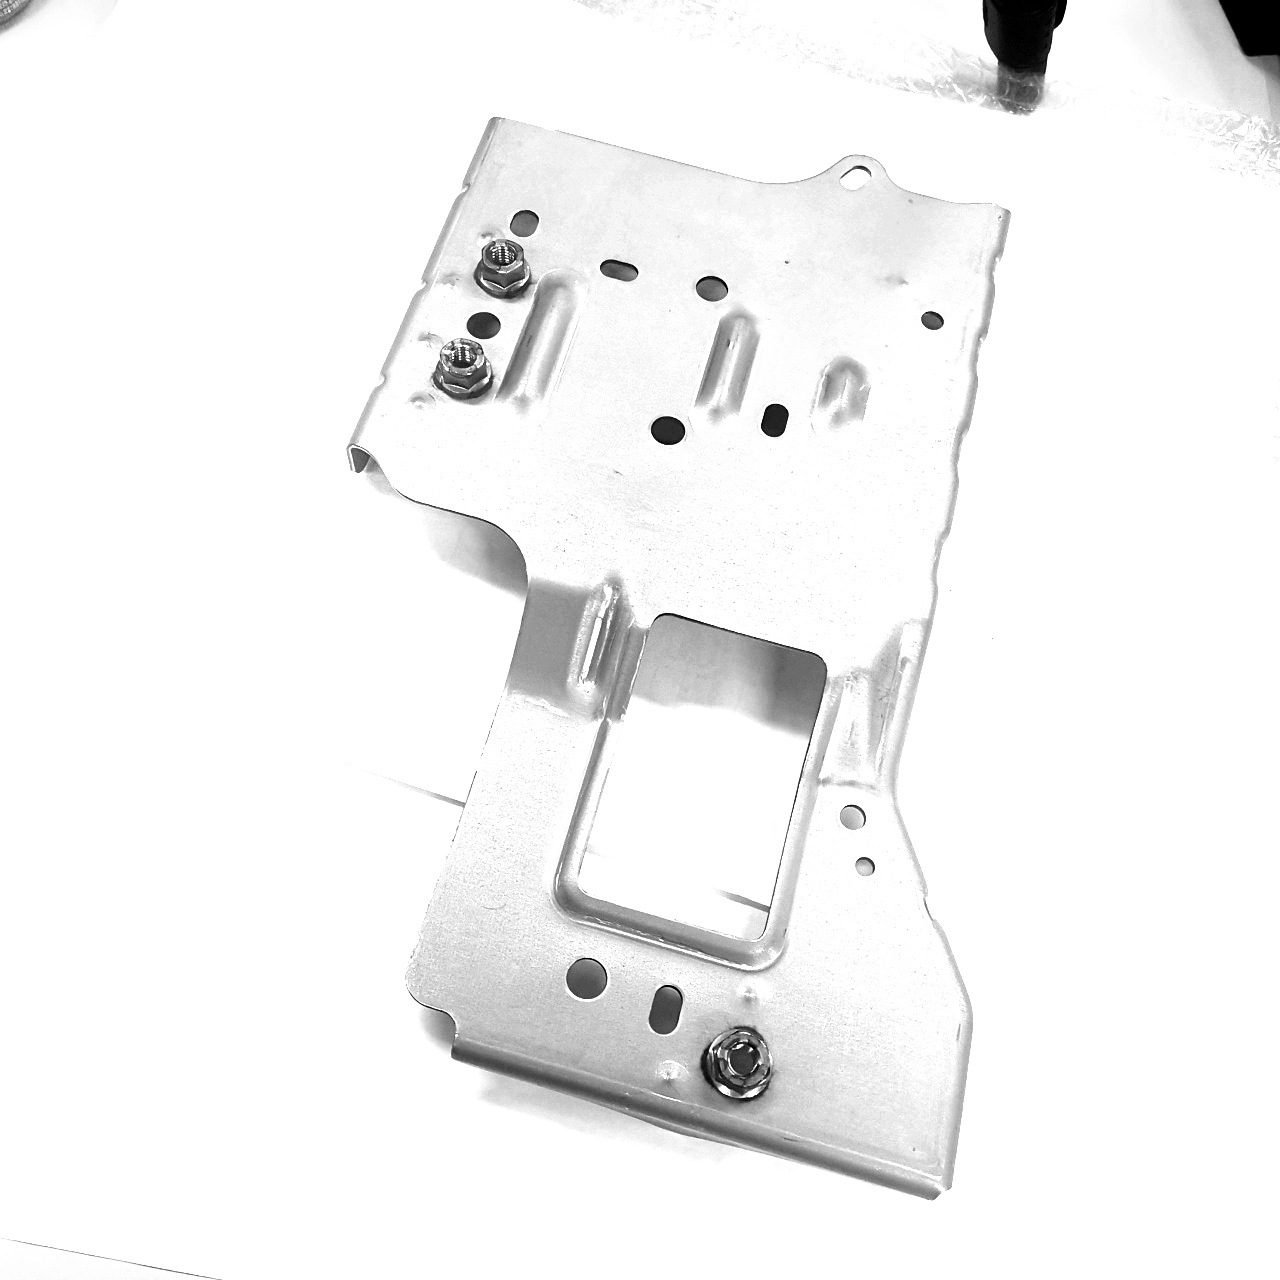dog: (696, 1020, 779, 1110), (425, 334, 498, 404), (467, 234, 536, 308)
